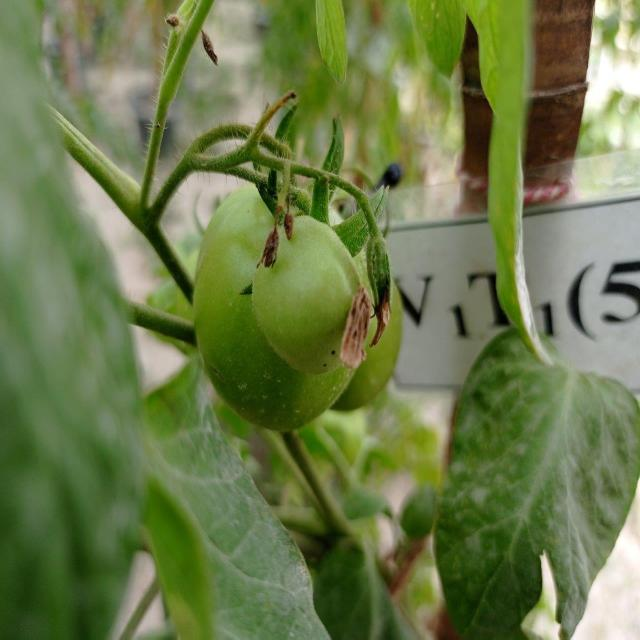Unripe: (195, 177, 370, 432), (254, 214, 365, 381)
